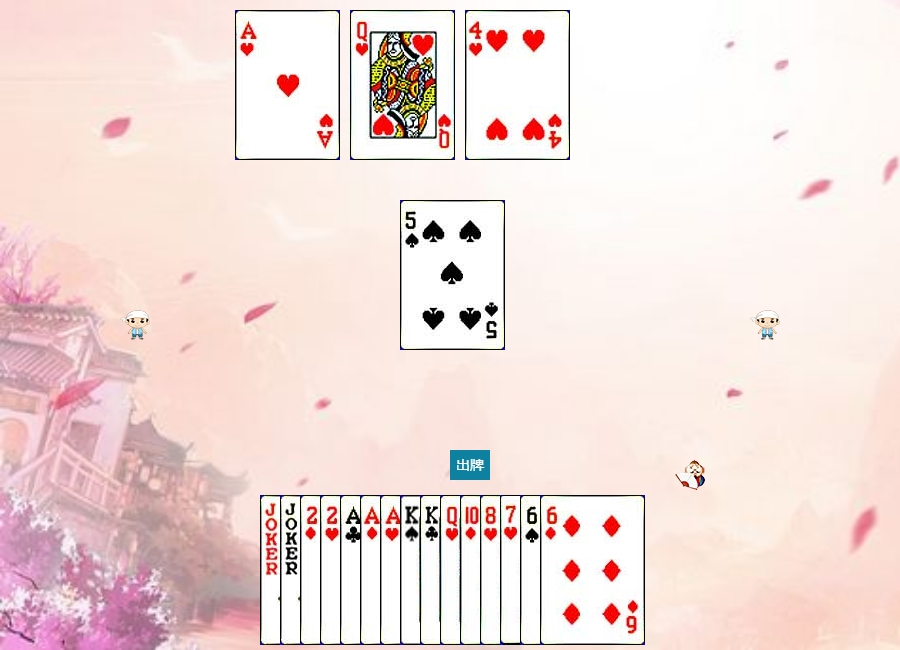10~1: (460, 495, 565, 645)
12~3: (350, 10, 455, 160), (440, 495, 545, 645)
13~2: (420, 495, 525, 645)
13~4: (400, 495, 505, 645)
14~1: (360, 495, 465, 645)
14~2: (340, 495, 445, 645)
14~3: (235, 10, 340, 160), (380, 495, 485, 645)
15~1: (300, 495, 405, 645)
15~3: (320, 495, 425, 645)
17~3: (280, 495, 385, 645)
18~4: (260, 495, 365, 645)
4~3: (465, 10, 570, 160)
5~4: (400, 200, 505, 350)
6~1: (540, 495, 645, 645)
6~4: (520, 495, 625, 645)
7~3: (500, 495, 605, 645)
8~3: (480, 495, 585, 645)
